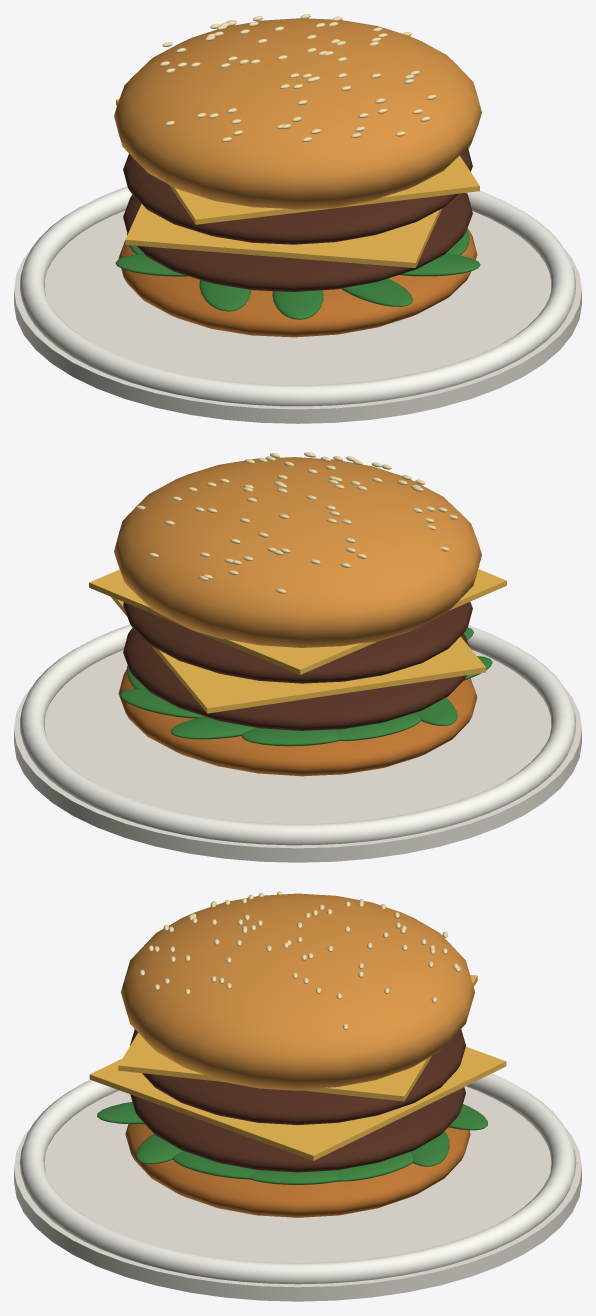
Rendered from burger.glb.
3 views of the same model, one above another, from view 1: azimuth 30°, elevation 25°; view 2: azimuth 150°, elevation 25°; view 3: azimuth 270°, elevation 25° (orthographic).
Parts seen in each view (by area): view 1: Stylized demo burger; view 2: Stylized demo burger; view 3: Stylized demo burger.
Boxes of the visible parts, box(x1,y1,x2,y2) form: Stylized demo burger: box(14, 14, 581, 423); Stylized demo burger: box(14, 452, 581, 862); Stylized demo burger: box(14, 891, 581, 1301).
Size of the model in its own units: 2.5 by 1.22 by 2.5.
